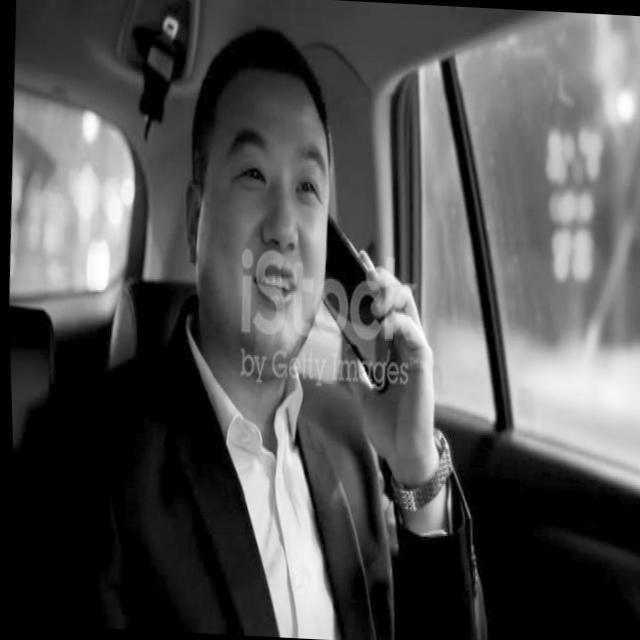PhoneCall: (314, 218, 396, 394)
